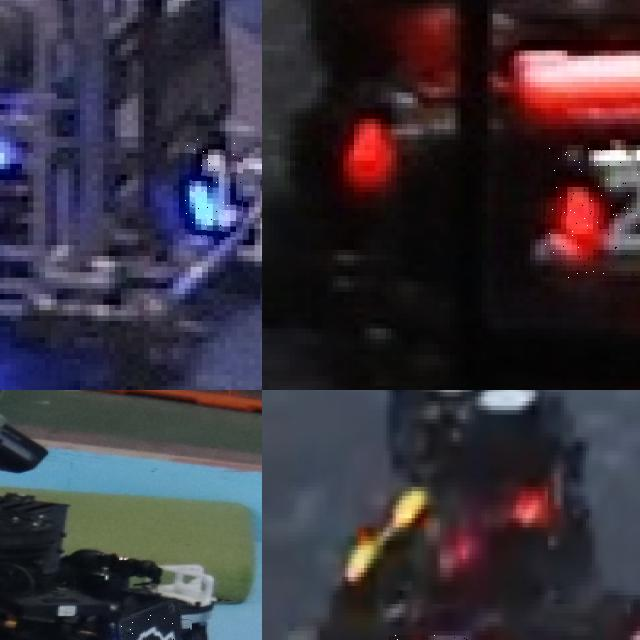B2: (185, 137, 243, 239)
Bs: (107, 613, 191, 640)
R2: (543, 147, 640, 278)
